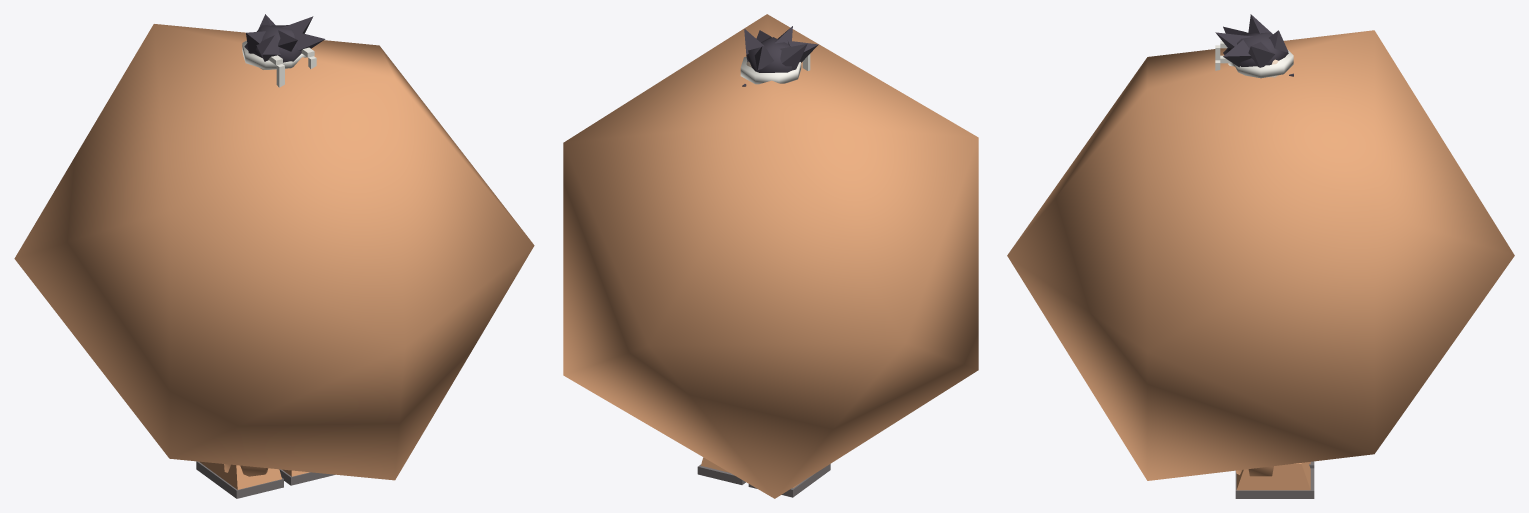
File: fighter_brawler.glb
3 renders of one model, left to right at view 1: azimuth 30°, elevation 25°; view 2: azimuth 150°, elevation 25°; view 3: azimuth 270°, elevation 25°, orthographic. The views are drawn at different scales.
Visible parts, largest first — view 1: belly, head, an_l; view 2: belly, head, an_r; view 3: belly, head, an_r.
Boxes of the visible parts, x1,y1,x2,y2 form: belly: (14, 24, 534, 480); head: (242, 14, 325, 87); an_l: (196, 461, 283, 498); belly: (563, 14, 978, 498); head: (740, 26, 818, 86); an_r: (697, 457, 745, 484); belly: (1007, 30, 1514, 480); head: (1215, 14, 1293, 78); an_r: (1235, 462, 1314, 498).
Bounding box in the file's own units: 1.79 × 1.93 × 2.
